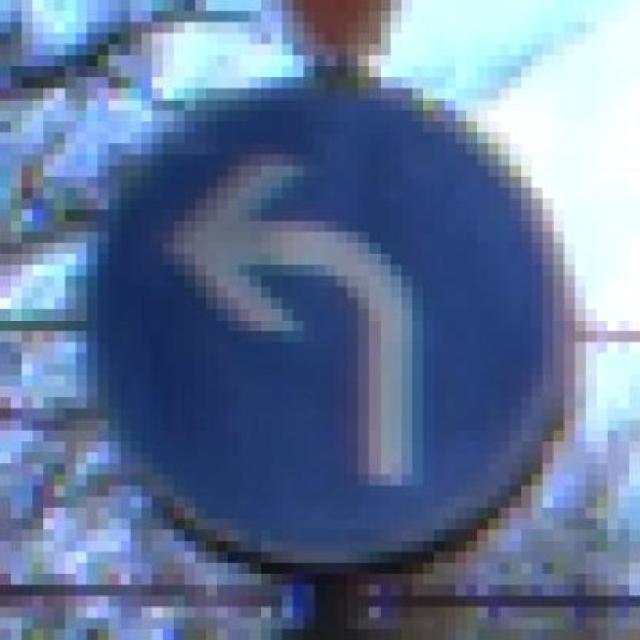Turn left ahead: (86, 66, 586, 596)
